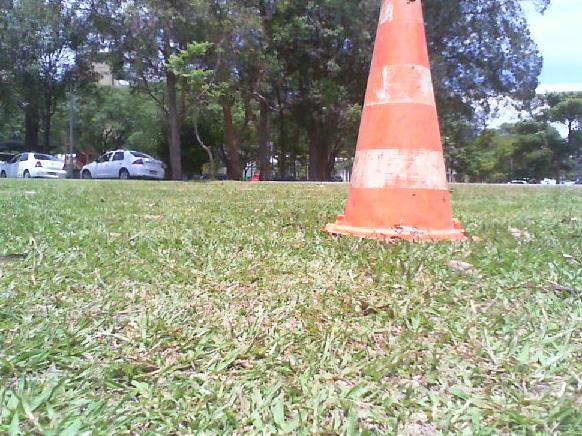0 cone: (315, 0, 487, 242)
